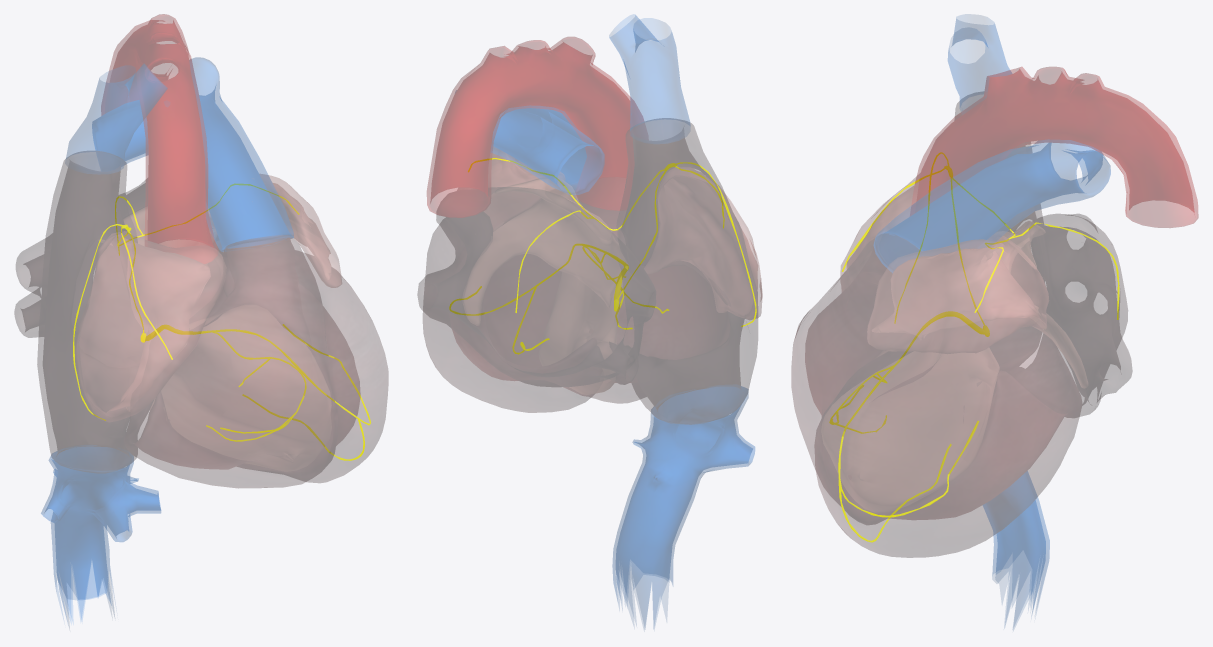
File: heart-conduction.glb
The picture shows the model from 3 angles, left to right: view 1: azimuth 30°, elevation 25°; view 2: azimuth 150°, elevation 25°; view 3: azimuth 270°, elevation 25°; orthographic projection. The views are drawn at different scales.
Visible parts, largest first — view 1: Right_ventricle, Right_atrium_to_superior_vena_cava, Right_auricle, Interventricular_septum, Aortic_arch, Left_ventricle, Pulmonary_trunk, Inferior_vena_cava, Posterior_wall_of_left_atrium, Superior_vena_cava, Left_auricle, Internodal_fasciculi (+2 smaller); view 2: Posterior_wall_of_left_atrium, Right_atrium_to_superior_vena_cava, Aortic_arch, Left_ventricle, Inferior_vena_cava, Anterior_wall_of_left_atrium, Right_auricle, Right_ventricle, Superior_vena_cava, Pulmonary_trunk, Interventricular_septum, Left_auricle (+2 smaller); view 3: Left_ventricle, Aortic_arch, Interventricular_septum, Posterior_wall_of_left_atrium, Left_auricle, Pulmonary_trunk, Right_ventricle, Inferior_vena_cava, Right_atrium_to_superior_vena_cava, Superior_vena_cava, Right_auricle, Anterior_wall_of_left_atrium (+2 smaller).
Boxes of the visible parts, x1,y1,x2,y2 form: Right_ventricle: (124,235,337,488); Right_atrium_to_superior_vena_cava: (37,151,153,473); Right_auricle: (75,231,226,422); Interventricular_septum: (150,305,331,470); Aortic_arch: (101,14,218,263); Left_ventricle: (190,241,388,482); Pulmonary_trunk: (92,57,293,251); Inferior_vena_cava: (41,447,160,627); Posterior_wall_of_left_atrium: (14,178,222,367); Superior_vena_cava: (65,64,167,172); Left_auricle: (208,174,341,287); Internodal_fasciculi: (73,183,299,420); Posterior_wall_of_left_atrium: (417,187,655,386); Right_atrium_to_superior_vena_cava: (609,118,757,424); Aortic_arch: (427,37,643,217); Left_ventricle: (423,217,602,412); Inferior_vena_cava: (612,386,754,629); Anterior_wall_of_left_atrium: (463,178,625,325); Right_auricle: (644,168,762,319); Right_ventricle: (551,177,729,403); Superior_vena_cava: (609,15,690,143); Pulmonary_trunk: (455,90,604,194); Interventricular_septum: (539,263,627,394); Left_auricle: (457,147,564,228); Left_ventricle: (814,318,1082,557); Aortic_arch: (910,67,1198,227); Interventricular_septum: (822,348,998,512); Posterior_wall_of_left_atrium: (1010,214,1132,417); Left_auricle: (867,235,1048,353); Pulmonary_trunk: (874,139,1110,272); Right_ventricle: (791,234,919,524); Inferior_vena_cava: (983,471,1049,629); Right_atrium_to_superior_vena_cava: (955,92,1049,396); Superior_vena_cava: (948,14,1011,110); Right_auricle: (840,174,919,291); Anterior_wall_of_left_atrium: (995,221,1087,387).
Size of the model in its own units: 0.1189 by 0.2052 by 0.123.
19 materials, 12 textured.
